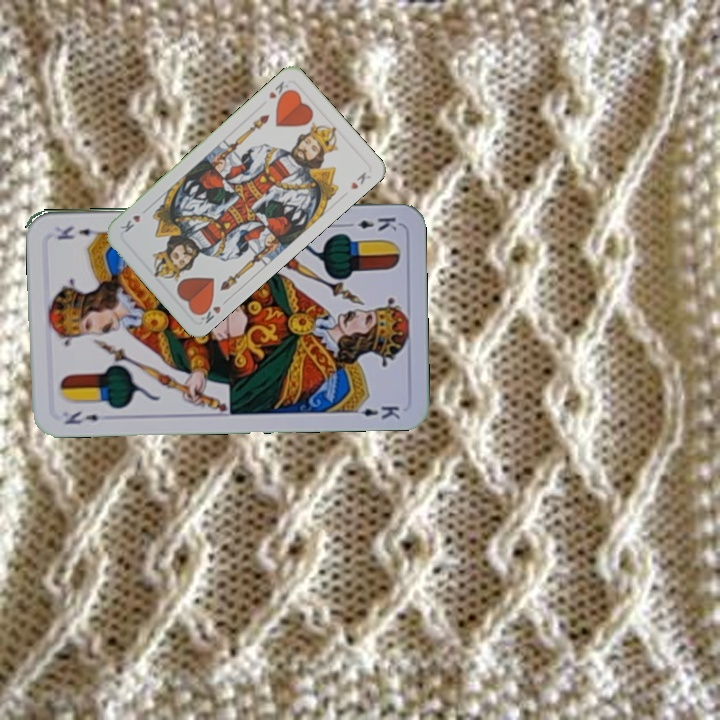EK: (340, 213, 400, 233), (61, 407, 114, 427)
HK: (194, 295, 231, 326), (264, 77, 294, 105)
